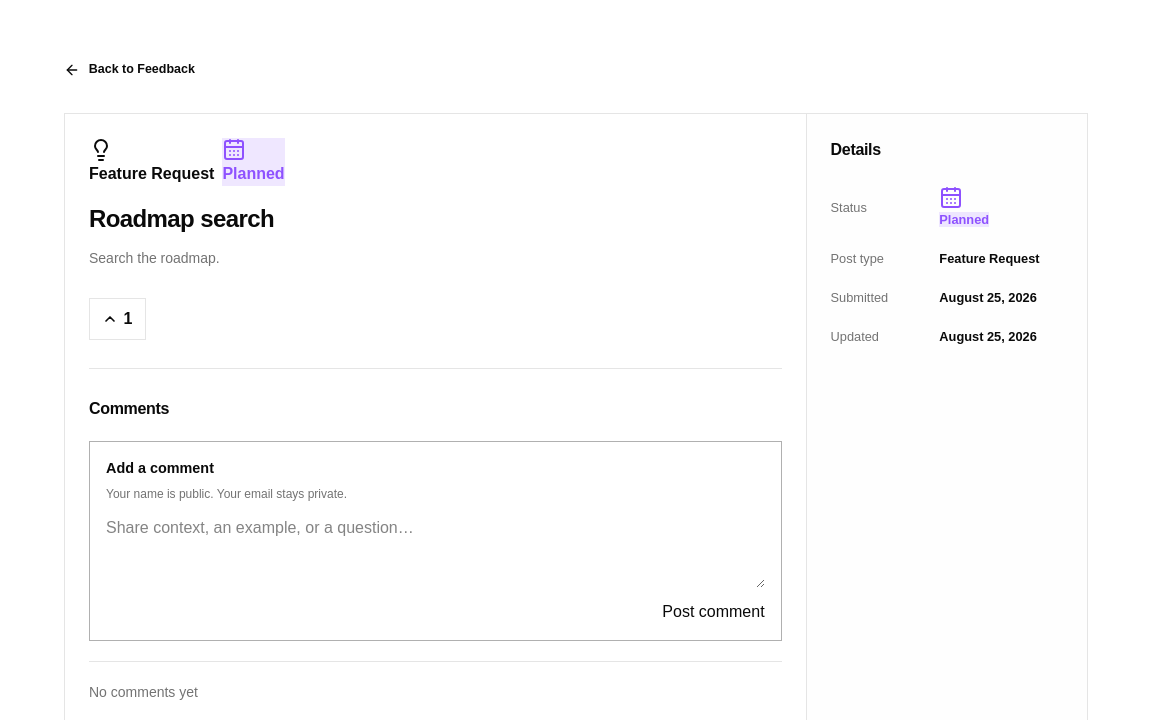
Test case: Comment creation › renders a fresh Turnstile challenge after a stale Participation Pass is rejected
The image size is (1152, 720).
Type "Retry with verification" into the text box labelled "Add a comment".
click(435, 552); type("Retry with verification")  # box [106,516,765,588]
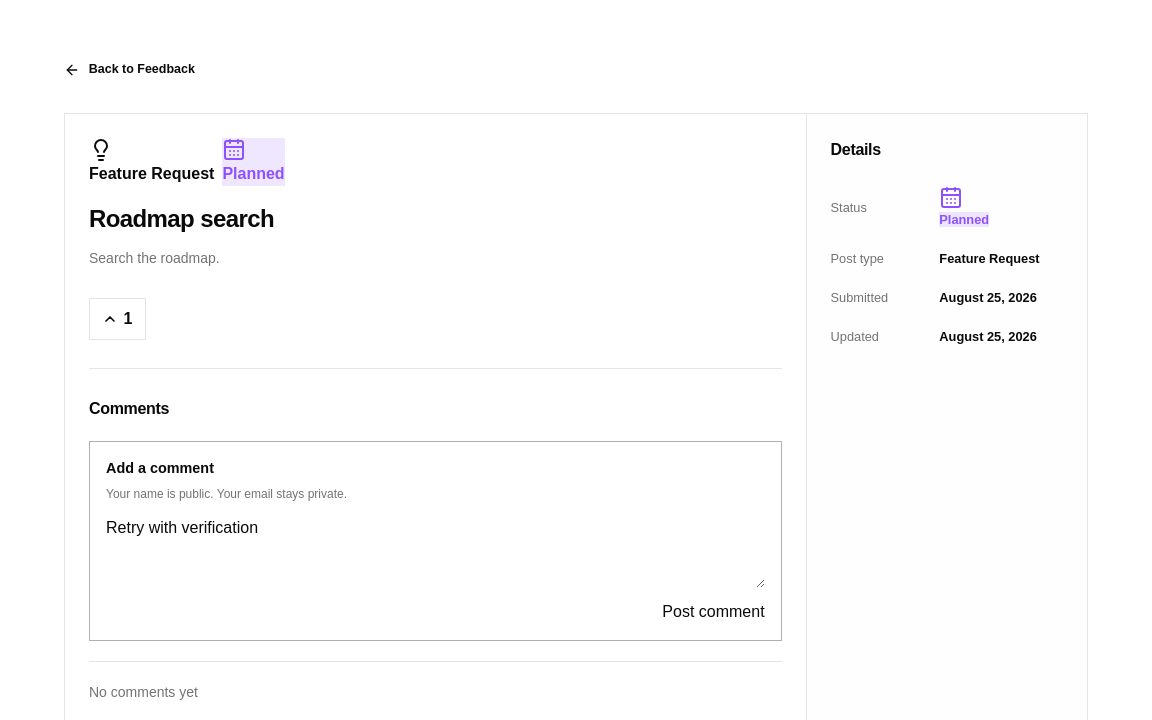
Click the button "Post comment".
click(713, 612)  # box [662,600,765,624]
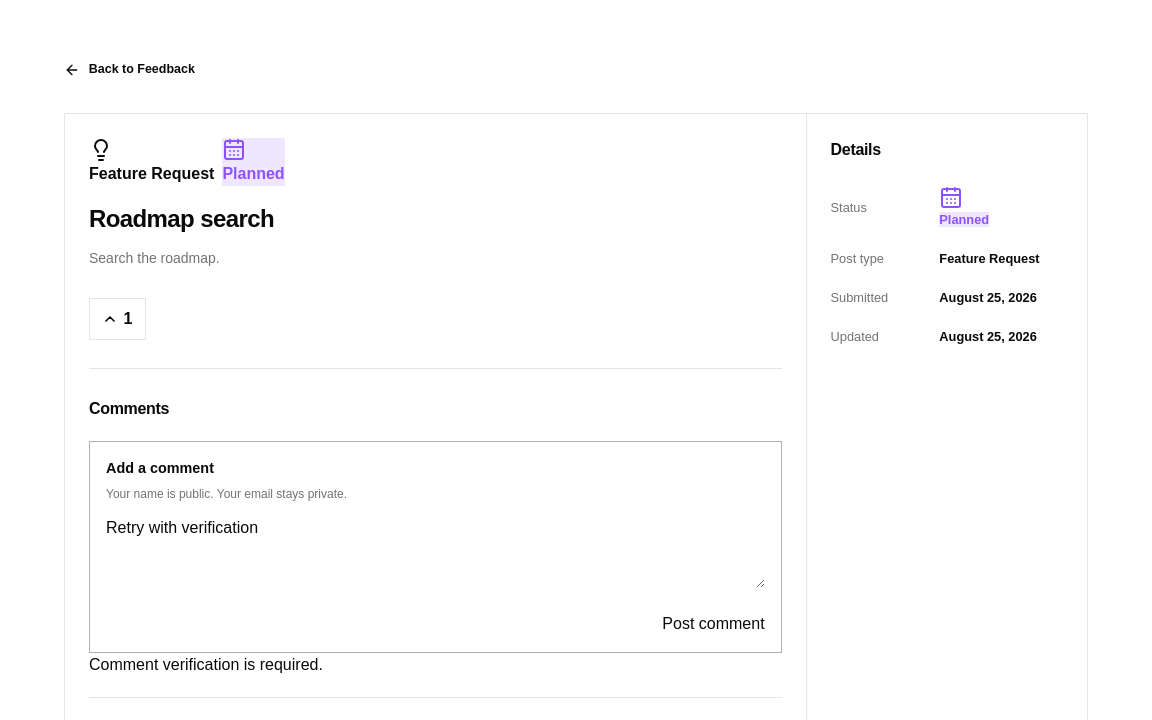
Expected: the message "Comment verification is required." is shown, [89,656,323,673]
